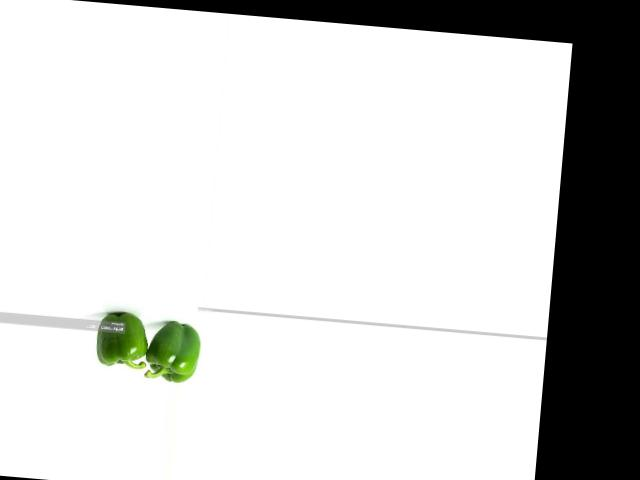bell_pepper: (144, 310, 202, 388)
